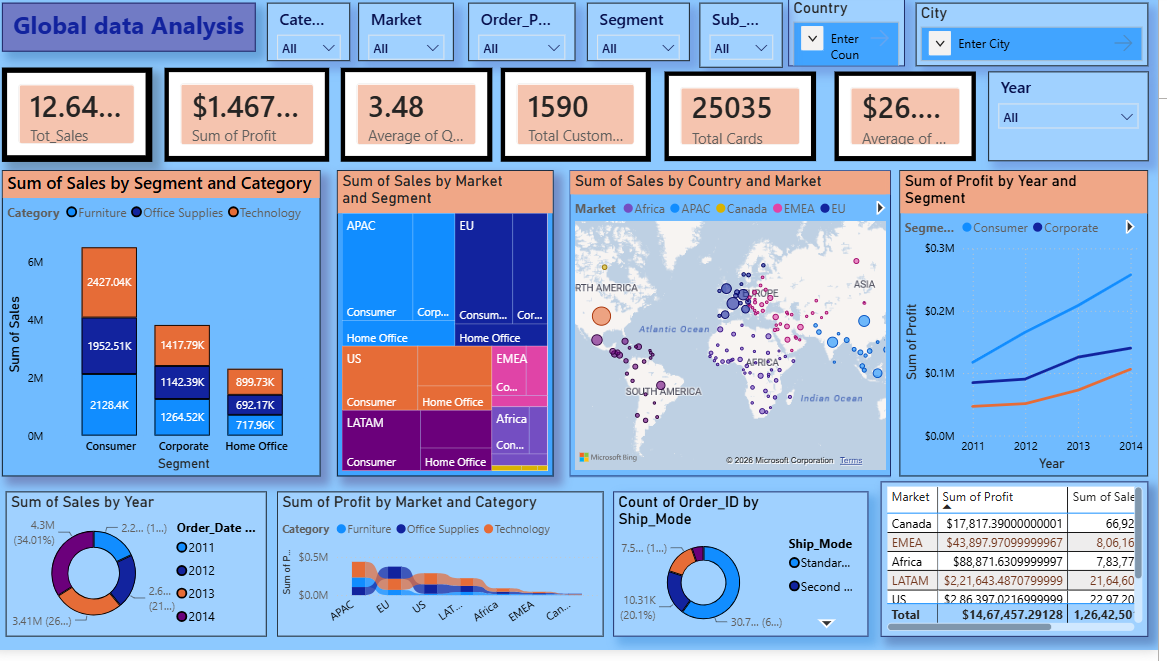

Layout of this report page (visuals, bound fields, positions):
{"tool":"powerbi","page":{"name":"Dashboard","canvas":[1280,720],"ordinal":16},"visuals":[{"type":"textbox","box":[11,9.6,278.6,53.5],"z":0},{"type":"slicer","fields":{"Values":["Orders.Category"]},"box":[301.2,10,91.2,63.8],"z":1000},{"type":"slicer","fields":{"Values":["Orders.Market"]},"box":[402.5,10,105,63.8],"z":2000},{"type":"slicer","fields":{"Values":["Orders.Order_Priority"]},"box":[522.5,10,117.5,63.8],"z":3000},{"type":"slicer","fields":{"Values":["Orders.Segment"]},"box":[652.5,10,112.5,63.8],"z":4000},{"type":"textSlicer","fields":{"Values":["Orders.Country"]},"box":[874.1,4.1,127.6,75.5],"z":5000},{"type":"slicer","fields":{"Values":["Orders.Sub_Category"]},"box":[776.2,10,91.2,71.2],"z":6000},{"type":"textSlicer","fields":{"Values":["Orders.City"]},"box":[1014.1,9.6,255.2,70],"z":7000},{"type":"cardVisual","fields":{"Data":["Orders.Tot_Sales"]},"box":[11,81,164.7,102.9],"z":8000},{"type":"cardVisual","fields":{"Data":["Sum(Orders.Profit)"]},"box":[189.4,81,181.1,102.9],"z":9000},{"type":"cardVisual","fields":{"Data":["Avg(Orders.Quantity)"]},"box":[382.8,81,166,102.9],"z":10000},{"type":"cardVisual","fields":{"Data":["Count(Orders.Customer_ID)"]},"box":[558.5,81,164.7,102.9],"z":11000},{"type":"cardVisual","fields":{"Data":["Count(Orders.Order_ID)"]},"box":[738.3,85.1,166,98.8],"z":12000},{"type":"cardVisual","fields":{"Data":["Avg(Orders.Shipping_Cost)"]},"box":[924.9,85.1,155.1,98.8],"z":13000},{"type":"slicer","fields":{"Values":["Orders.Order_Date.Variation.Date Hierarchy.Year"]},"box":[1093.7,85.1,175.6,98.8],"z":14000},{"type":"columnChart","fields":{"Y":["Sum(Orders.Sales)"],"Series":["Orders.Category"],"Category":["Orders.Segment"]},"box":[11,193.5,349.9,336.2],"z":15000},{"type":"treemap","fields":{"Values":["Sum(Orders.Sales)"],"Details":["Orders.Segment"],"Group":["Orders.Market"]},"box":[378.7,193.5,237.4,336.2],"z":16000},{"type":"map","fields":{"Category":["Orders.Country","Orders.City"],"Series":["Orders.Market"],"Size":["Sum(Orders.Sales)"]},"box":[634,193.5,352.7,336.2],"z":17000},{"type":"lineChart","fields":{"Category":["Orders.Order_Date.Variation.Date Hierarchy.Year"],"Y":["Sum(Orders.Profit)"],"Series":["Orders.Segment"]},"box":[996.2,193.5,273.1,336.2],"z":18000},{"type":"donutChart","fields":{"Category":["Orders.Order_Date.Variation.Date Hierarchy.Year"],"Y":["Sum(Orders.Sales)"]},"box":[15.1,546.1,286.8,159.2],"z":19000},{"type":"donutChart","fields":{"Category":["Orders.Ship_Mode"],"Y":["CountNonNull(Orders.Order_ID)"]},"box":[682,546.1,279.9,159.2],"z":20000},{"type":"ribbonChart","fields":{"Category":["Orders.Market"],"Y":["Sum(Orders.Profit)"],"Series":["Orders.Category"]},"box":[312.9,546.1,358.1,159.2],"z":21000},{"type":"tableEx","fields":{"Values":["Orders.Market","Sum(Orders.Profit)","Sum(Orders.Sales)","Sum(Orders.Quantity)"]},"box":[975.6,535.2,293.7,170.2],"z":22000}]}

Visuals, with their boxes in screenshot pixels (x1, y1, x2, y2), scaled from the page's 1280x720 canvas onto the 1167x661 screenshot:
textbox: Rect(10, 9, 264, 58)
slicer - Orders.Category: Rect(275, 9, 358, 68)
slicer - Orders.Market: Rect(367, 9, 463, 68)
slicer - Orders.Order_Priority: Rect(476, 9, 584, 68)
slicer - Orders.Segment: Rect(595, 9, 697, 68)
textSlicer - Orders.Country: Rect(797, 4, 913, 73)
slicer - Orders.Sub_Category: Rect(708, 9, 791, 75)
textSlicer - Orders.City: Rect(925, 9, 1157, 73)
cardVisual - Orders.Tot_Sales: Rect(10, 74, 160, 169)
cardVisual - Sum(Orders.Profit): Rect(173, 74, 338, 169)
cardVisual - Avg(Orders.Quantity): Rect(349, 74, 500, 169)
cardVisual - Count(Orders.Customer_ID): Rect(509, 74, 659, 169)
cardVisual - Count(Orders.Order_ID): Rect(673, 78, 824, 169)
cardVisual - Avg(Orders.Shipping_Cost): Rect(843, 78, 985, 169)
slicer - Orders.Order_Date.Variation.Date Hierarchy.Year: Rect(997, 78, 1157, 169)
columnChart - Sum(Orders.Sales) x Orders.Category: Rect(10, 178, 329, 486)
treemap - Sum(Orders.Sales) x Orders.Segment: Rect(345, 178, 562, 486)
map - Orders.Country x Orders.City: Rect(578, 178, 900, 486)
lineChart - Orders.Order_Date.Variation.Date Hierarchy.Year x Sum(Orders.Profit): Rect(908, 178, 1157, 486)
donutChart - Orders.Order_Date.Variation.Date Hierarchy.Year x Sum(Orders.Sales): Rect(14, 501, 275, 648)
donutChart - Orders.Ship_Mode x CountNonNull(Orders.Order_ID): Rect(622, 501, 877, 648)
ribbonChart - Orders.Market x Sum(Orders.Profit): Rect(285, 501, 612, 648)
tableEx - Orders.Market x Sum(Orders.Profit): Rect(889, 491, 1157, 648)
